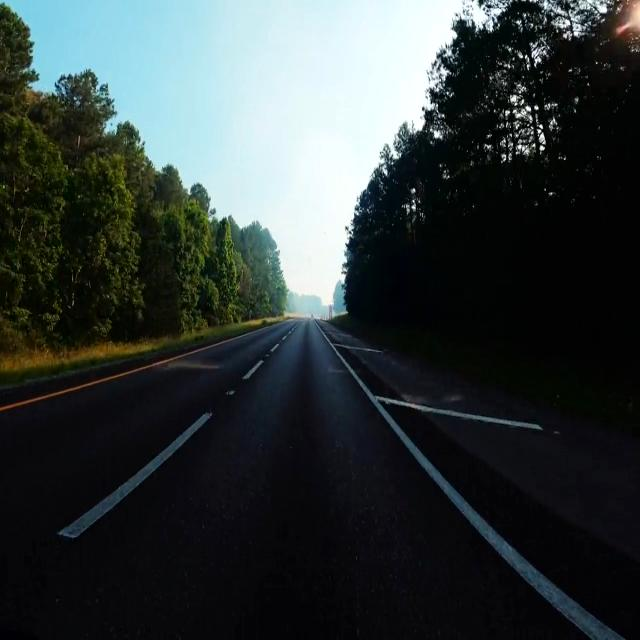lane: (321, 331, 621, 640), (0, 329, 260, 412), (59, 413, 211, 538), (242, 360, 264, 379)
road: (0, 320, 583, 637), (453, 471, 640, 633)
